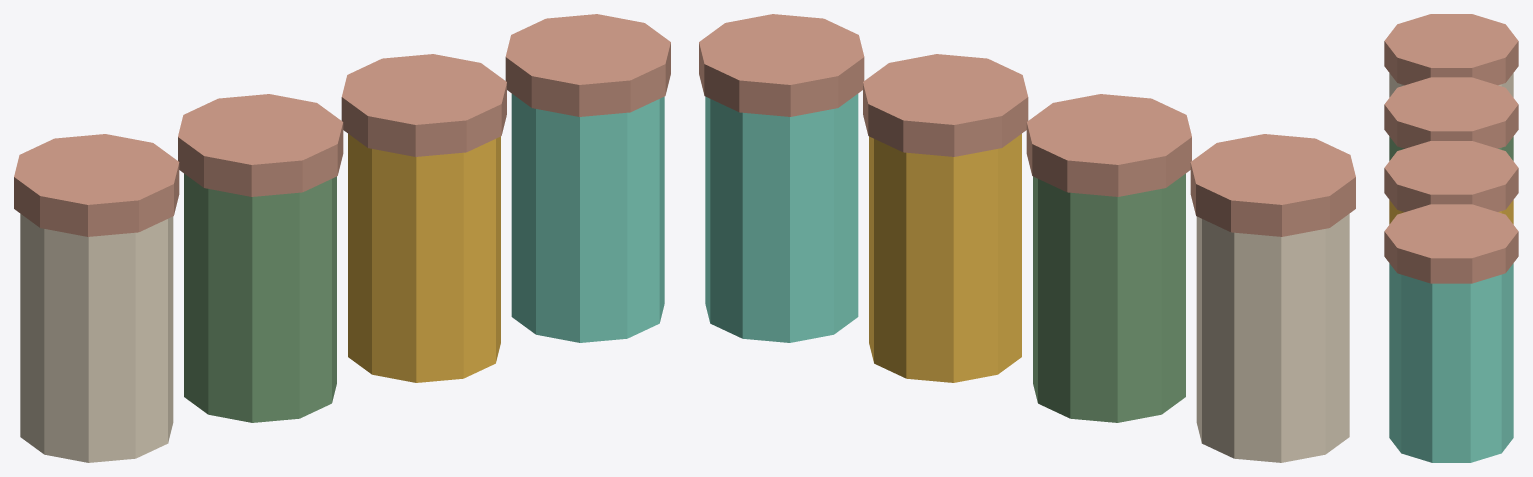
3 views of the same model, side by side, from view 1: azimuth 30°, elevation 25°; view 2: azimuth 150°, elevation 25°; view 3: azimuth 270°, elevation 25° (orthographic). The views are drawn at different scales.
Parts seen in each view (by area): view 1: Storage jar.003, Storage jar, Storage jar.001, Storage jar.002, Jar lid, Jar lid.001, Jar lid.003, Jar lid.002; view 2: Storage jar.003, Storage jar, Storage jar.001, Storage jar.002, Jar lid, Jar lid.001, Jar lid.003, Jar lid.002; view 3: Storage jar.003, Jar lid.003, Jar lid.001, Jar lid.002, Jar lid, Storage jar.001, Storage jar.002, Storage jar.
Part boxes in pixels (x1,y1,x2,y2): Storage jar.003: (511, 94, 664, 342); Storage jar: (20, 214, 173, 462); Storage jar.001: (184, 173, 336, 422); Storage jar.002: (348, 134, 500, 382); Jar lid: (14, 134, 179, 236); Jar lid.001: (178, 94, 343, 196); Jar lid.003: (505, 14, 670, 116); Jar lid.002: (341, 54, 506, 156); Storage jar.003: (705, 94, 858, 342); Storage jar: (1196, 214, 1349, 462); Storage jar.001: (1033, 173, 1185, 422); Storage jar.002: (869, 134, 1021, 382); Jar lid: (1190, 134, 1355, 236); Jar lid.001: (1026, 94, 1191, 196); Jar lid.003: (699, 14, 864, 116); Jar lid.002: (863, 54, 1028, 156); Storage jar.003: (1389, 263, 1513, 462); Jar lid.003: (1384, 204, 1518, 283); Jar lid.001: (1384, 77, 1518, 148); Jar lid.002: (1384, 141, 1518, 211); Jar lid: (1384, 14, 1518, 85); Storage jar.001: (1389, 136, 1513, 160); Storage jar.002: (1389, 200, 1513, 224); Storage jar: (1389, 73, 1513, 97).
Size of the model in its own units: 57.74 by 22.8 by 13.4.
